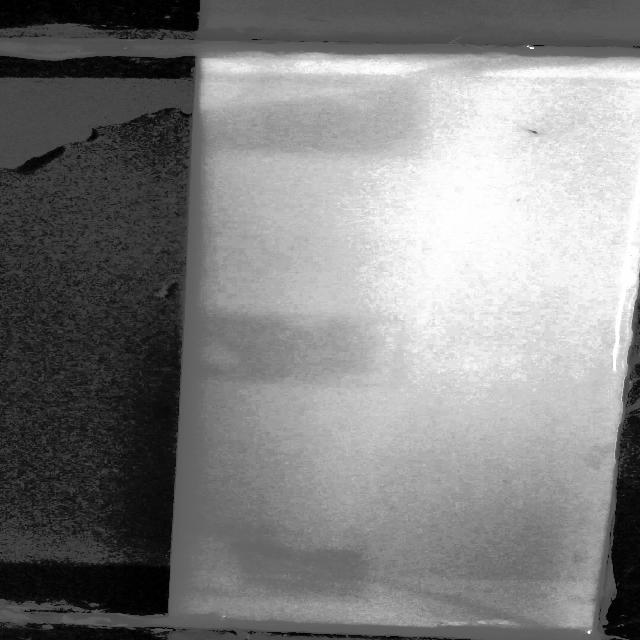shrimp: (520, 126, 546, 138)
